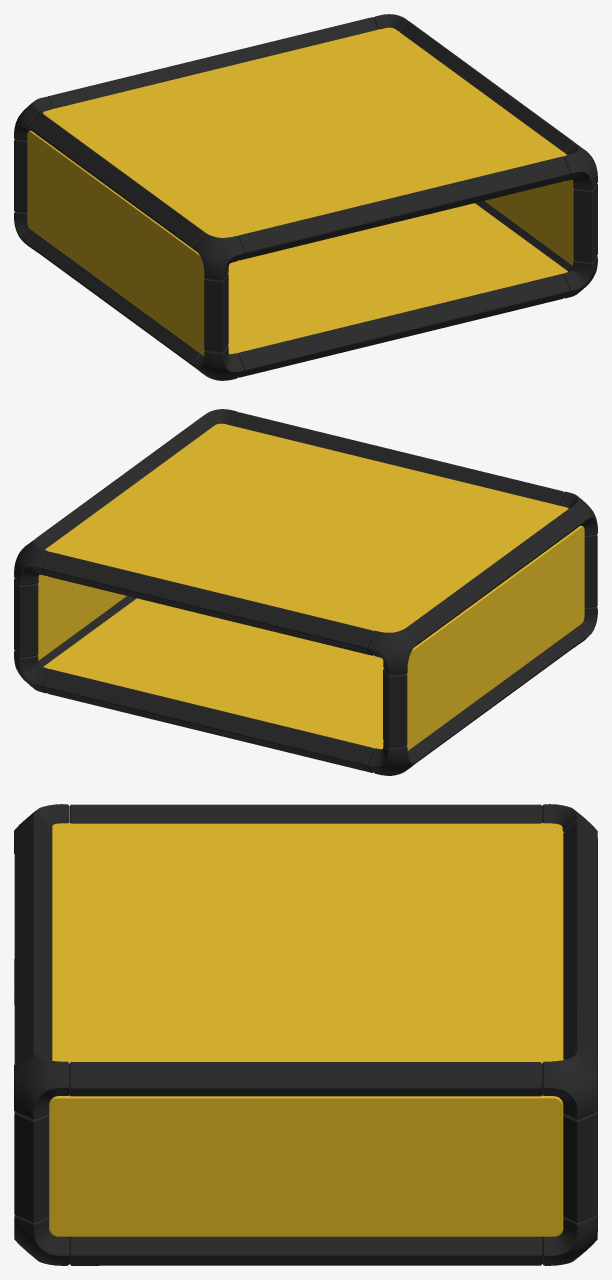
The picture shows the model from 3 angles, top to bottom: view 1: azimuth 30°, elevation 25°; view 2: azimuth 150°, elevation 25°; view 3: azimuth 270°, elevation 25°; orthographic projection. The views are drawn at different scales.
Parts seen in each view (by area): view 1: 374x329x79; view 2: 374x329x79; view 3: 374x329x79.
Part boxes in pixels (<box>): 374x329x79: <box>14,14,597,380</box>; 374x329x79: <box>14,409,597,775</box>; 374x329x79: <box>14,804,597,1265</box>.
Size of the model in its own units: 0.4517 by 0.1567 by 0.4063.
